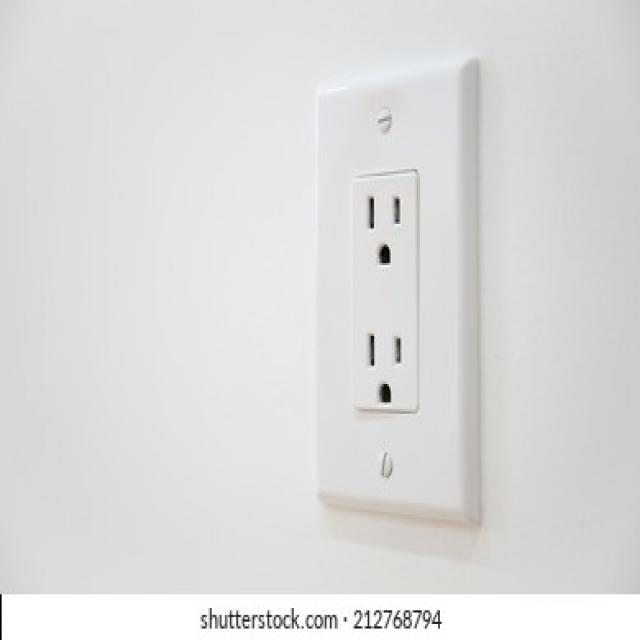typeb: (304, 60, 500, 528)
